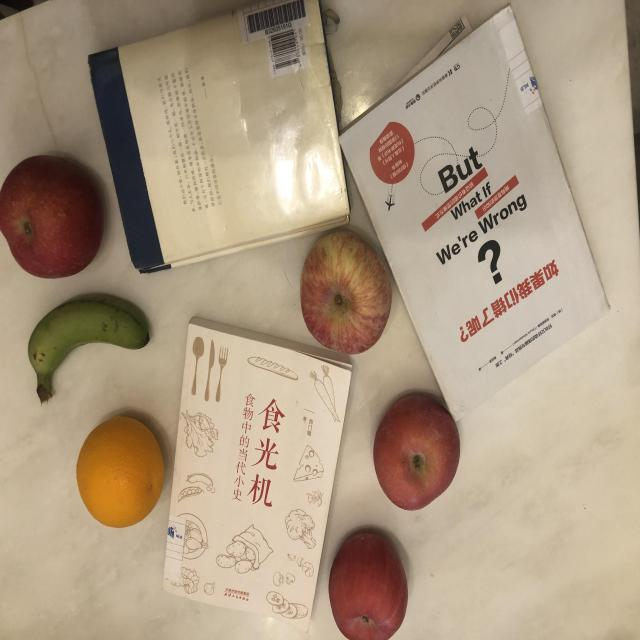Apple: (367, 382, 481, 540), (0, 144, 110, 305), (293, 221, 403, 363), (313, 498, 417, 640)
Banana: (24, 282, 172, 406)
Book: (325, 0, 639, 424), (66, 0, 409, 272), (146, 304, 378, 640)
Orange: (67, 398, 181, 544)
